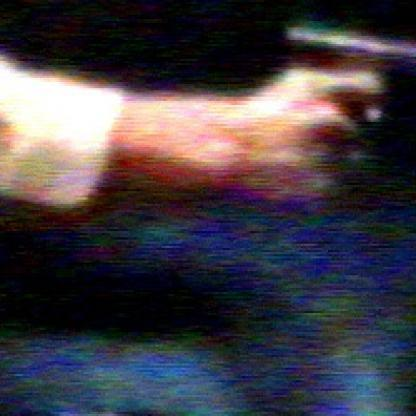gun: (276, 6, 414, 154)
